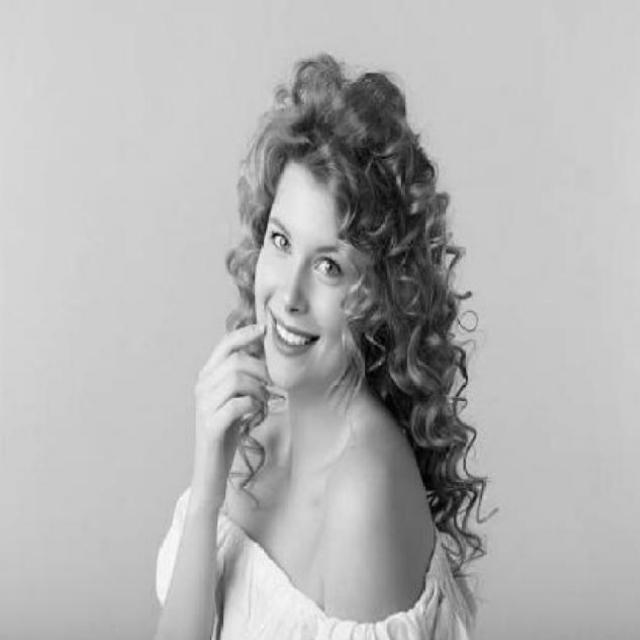Happy: (252, 159, 365, 400)
